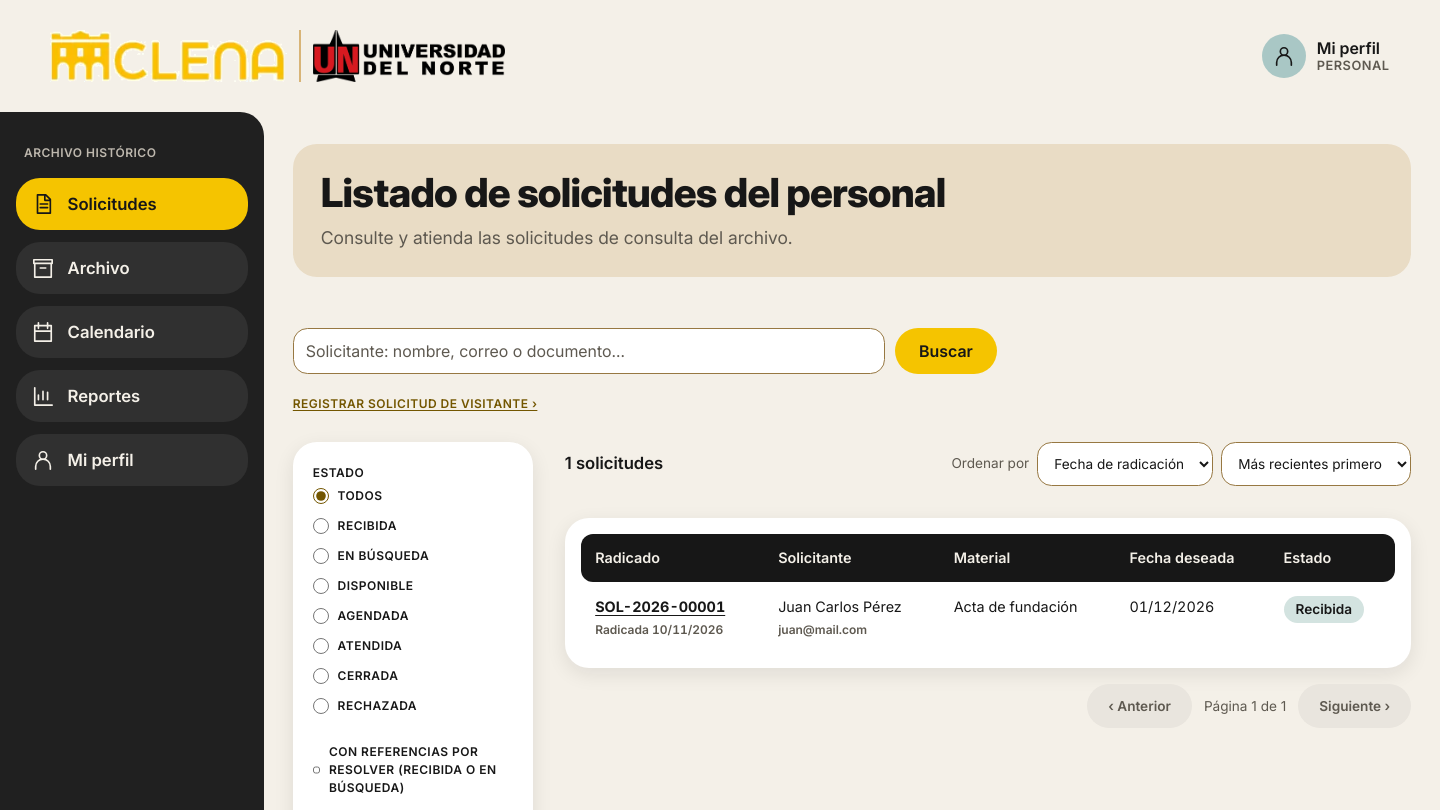
Test: RequestsListPage › automatic updates (#141) › ignores a stale refresh after filters change
Expected: the table is shown, [565,518,1411,668]
Step 1. Click the radio button labelled "Agendada" → (321, 616), box [313,608,329,624]
Wait 30000 ms
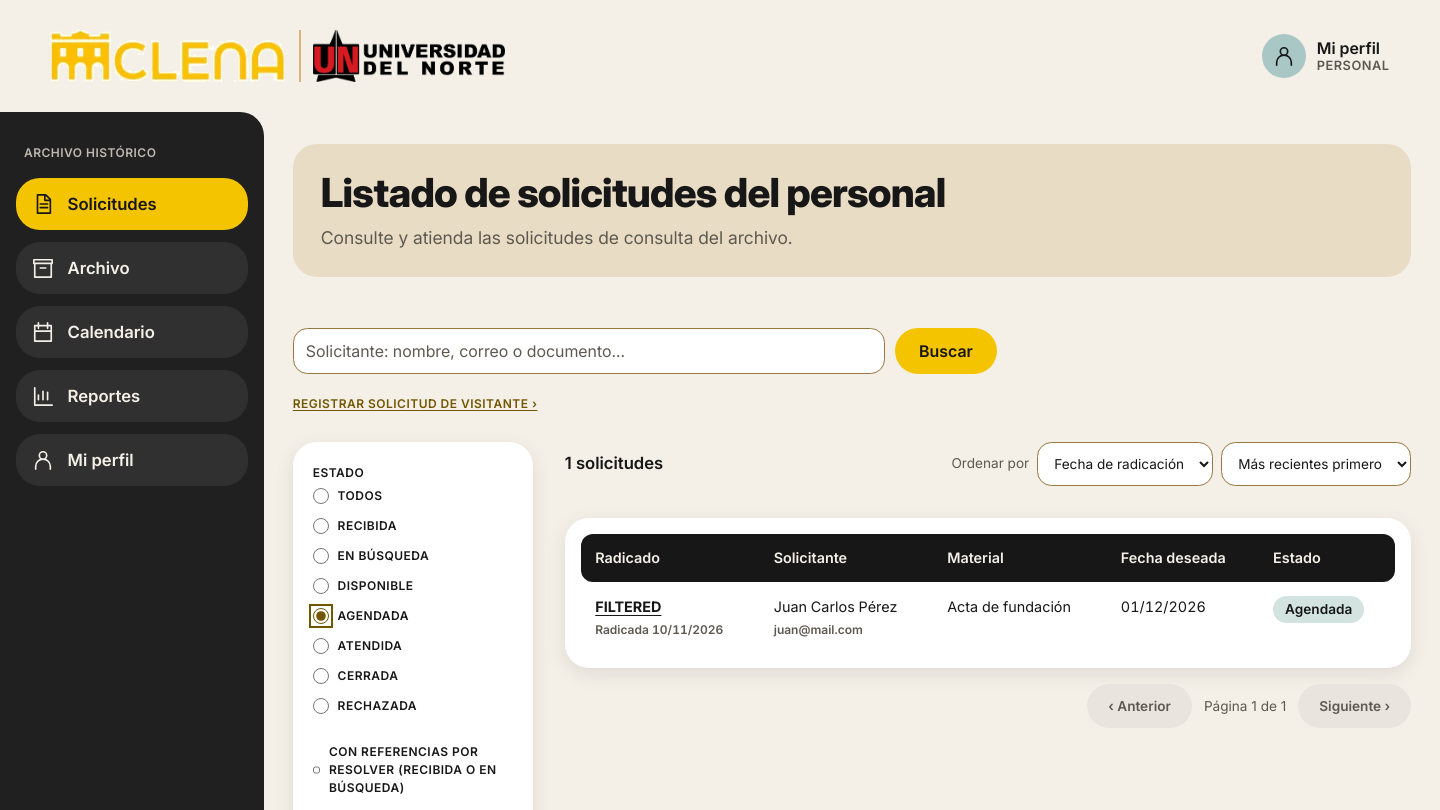
Now the text "FILTERED" is shown, box [595,598,661,615]
Now the link "SOL-2026-00001" is gone
